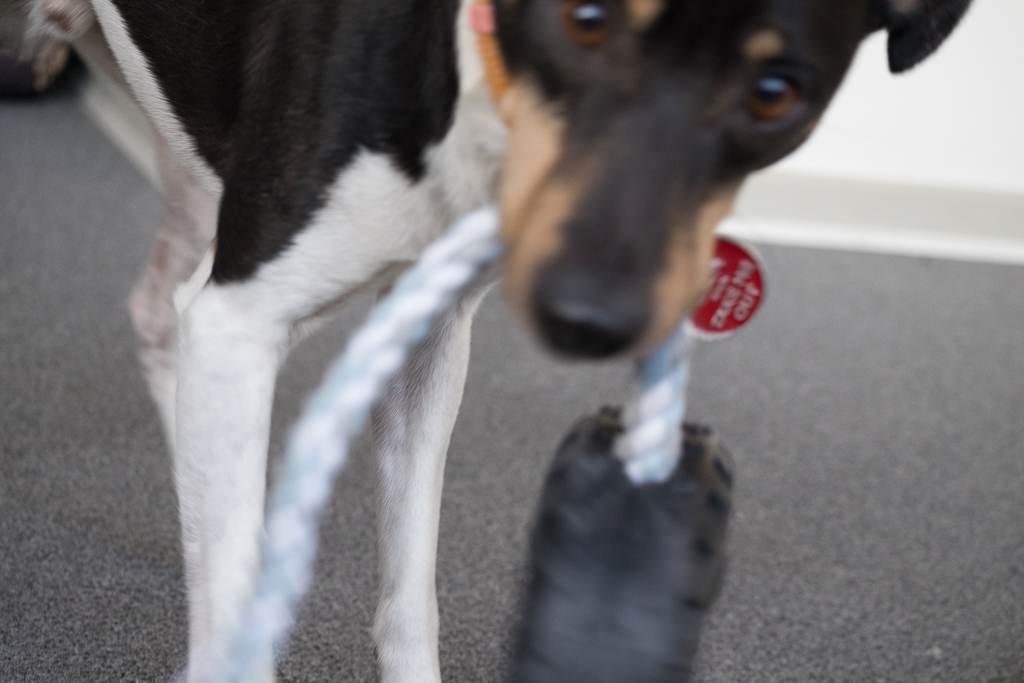Dog: (0, 0, 984, 683)
